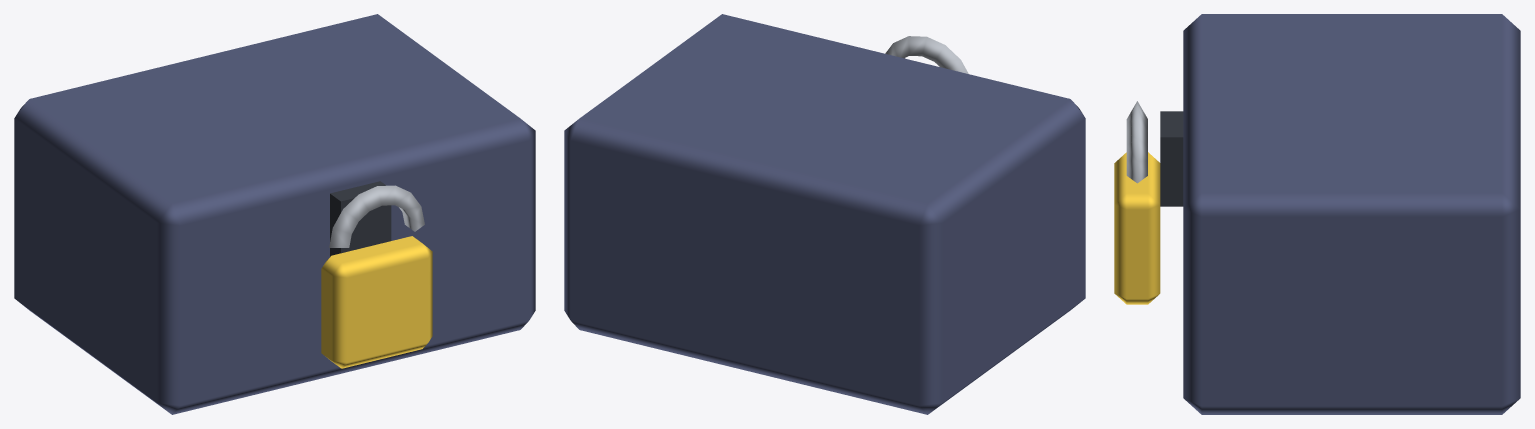
The model's file is station_special_ausstattung_2_0.glb.
The picture shows the model from 3 angles, left to right: view 1: azimuth 30°, elevation 25°; view 2: azimuth 150°, elevation 25°; view 3: azimuth 270°, elevation 25°; orthographic projection. The views are drawn at different scales.
Parts seen in each view (by area): view 1: station_special_ausstattung_2_0; view 2: station_special_ausstattung_2_0; view 3: station_special_ausstattung_2_0.
Boxes of the visible parts, left/top/right/bottom form: station_special_ausstattung_2_0: left=14, top=14, right=535, bottom=414; station_special_ausstattung_2_0: left=564, top=14, right=1085, bottom=414; station_special_ausstattung_2_0: left=1114, top=14, right=1520, bottom=414.
Bounding box in the file's own units: 0.3 × 0.16 × 0.265.
